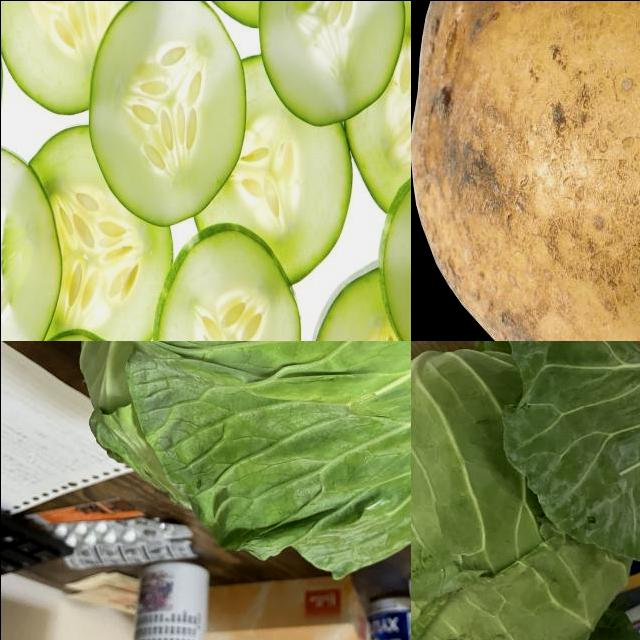cabbage: (78, 341, 411, 584), (411, 341, 640, 640)
cucumber: (191, 43, 352, 289), (88, 1, 247, 223), (1, 1, 163, 120), (265, 1, 405, 130), (1, 147, 62, 341)
potato: (415, 1, 640, 341)
